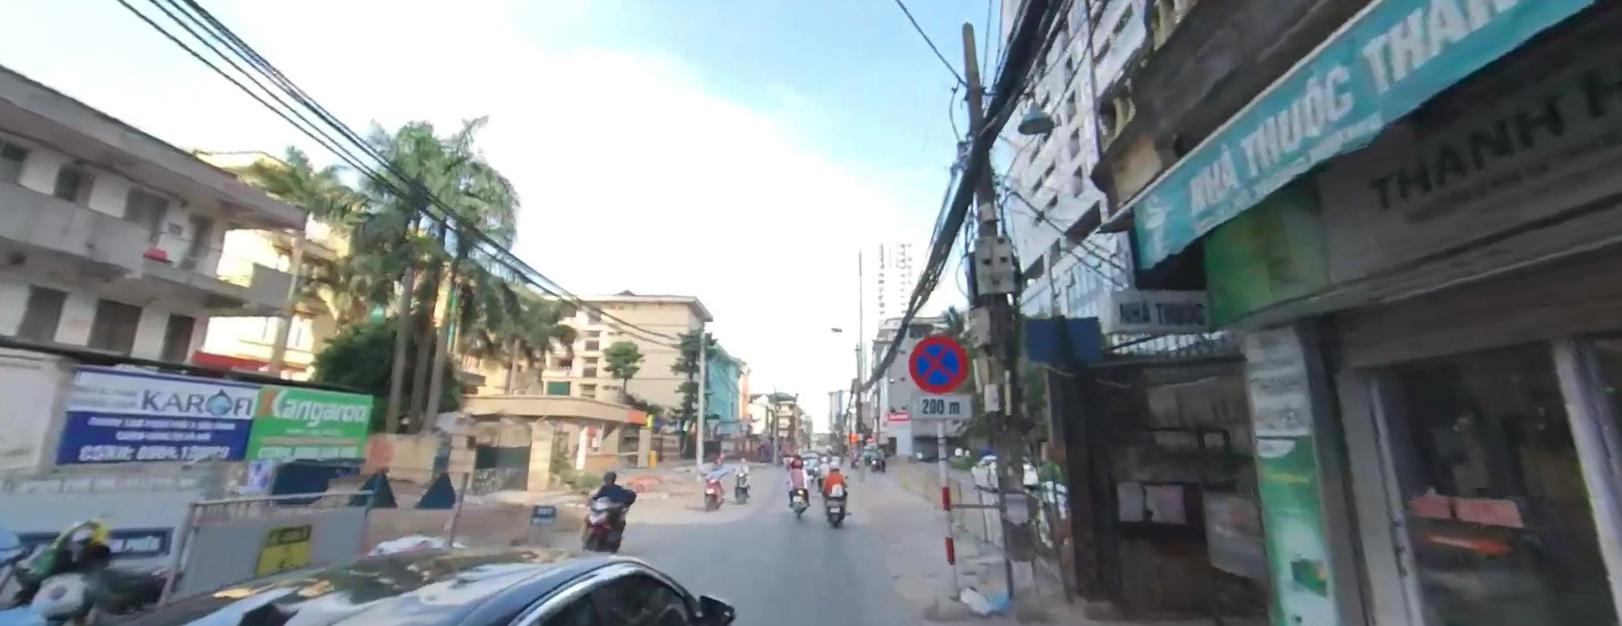Cam dung va do: (903, 331, 972, 393)
